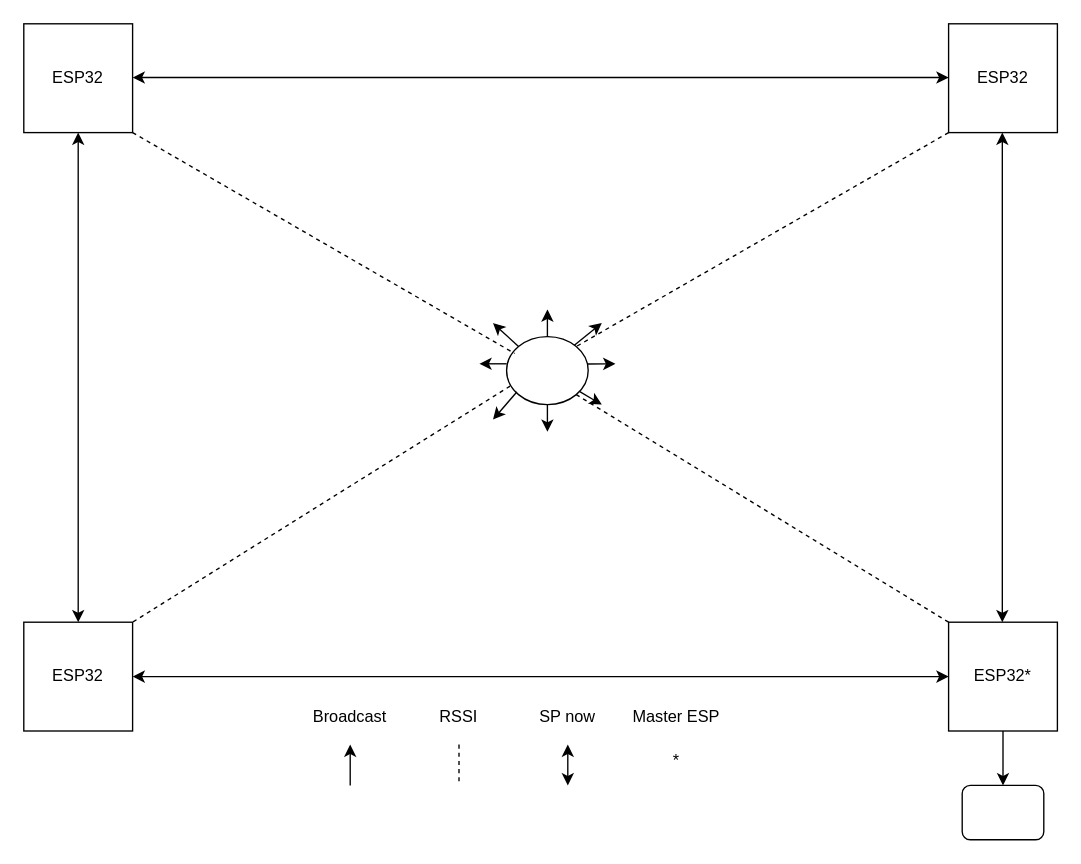
The diagram is 1081 pixels wide and 864 high, and some of its shapes have lost their labels. The shapes that lost their labels are listed below. From the top down, each one's centre as x and y in pixels, then its label:
At point 546,370: "Device".
At point 1002,812: "MQTT".
